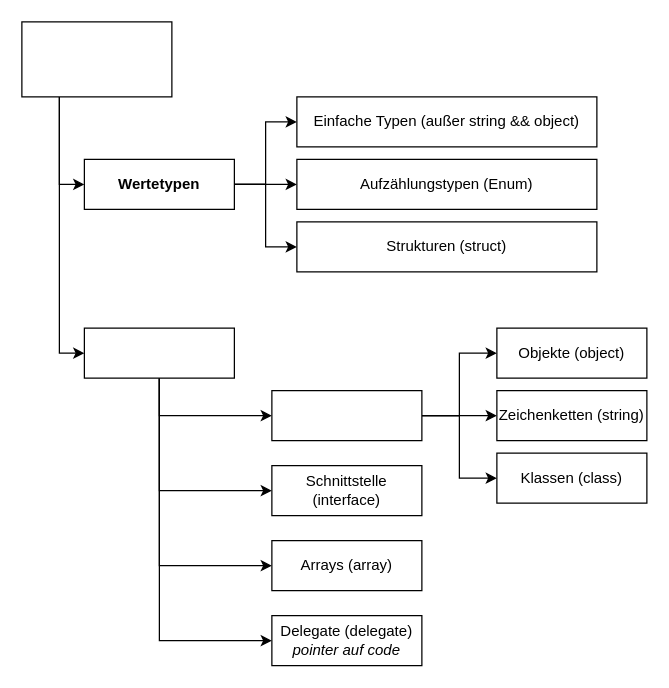
Image size: 669x688. Some labels were removed from this diagram. Each missing label, with the box of its shape:
Klassentypen: (271, 389, 422, 441)
Objekttypen Datentypen (object): (21, 21, 172, 97)
Referenztypen: (83, 327, 234, 378)
